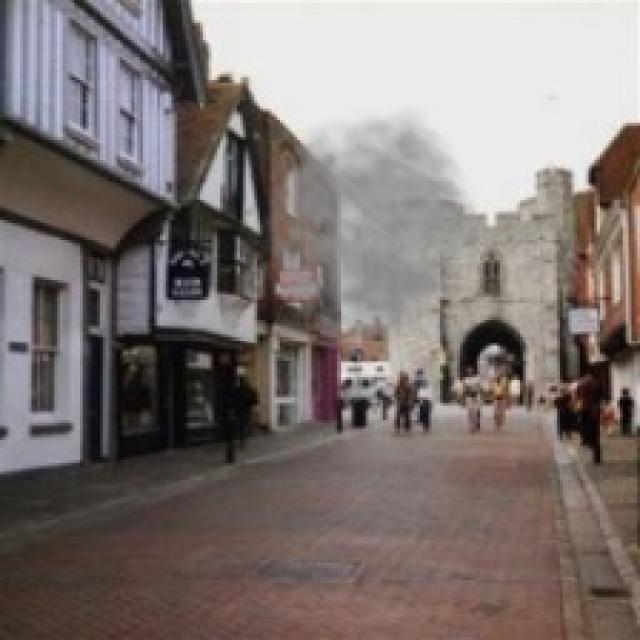smoke: (243, 106, 483, 366)
